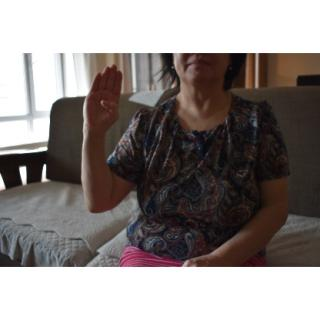KAAF: (80, 59, 124, 138)
